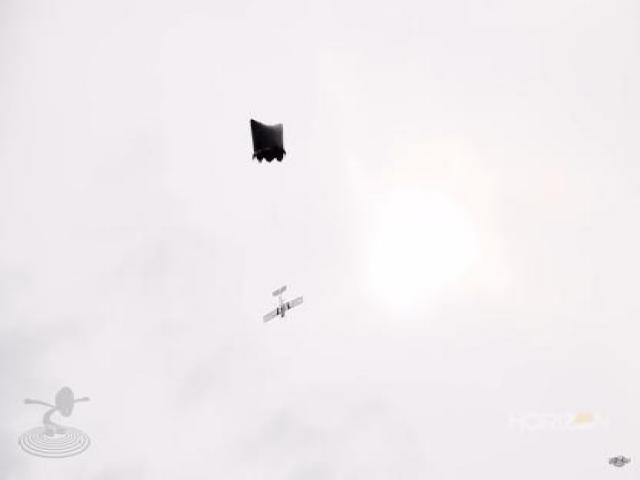uav: (260, 282, 305, 325)
